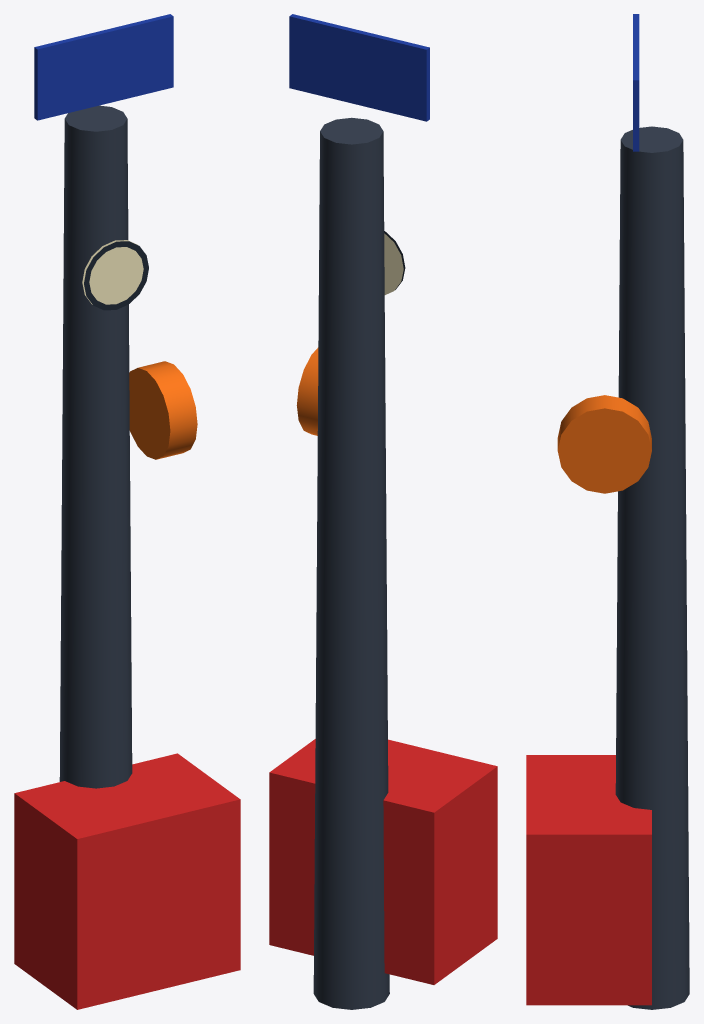
The model's file is yard-air-hose-body-authored-atlas.glb.
3 views of the same model, side by side, from view 1: azimuth 30°, elevation 25°; view 2: azimuth 150°, elevation 25°; view 3: azimuth 270°, elevation 25° (orthographic).
Parts seen in each view (by area): view 1: Authored surface.019; view 2: Authored surface.019; view 3: Authored surface.019.
Boxes of the visible parts, x1,y1,x2,y2 form: Authored surface.019: (14,14,240,1009); Authored surface.019: (269,14,497,1009); Authored surface.019: (526,14,689,1009).
Bounding box in the file's own units: 0.6 × 3.33 × 0.52.
1 material, 1 textured.
